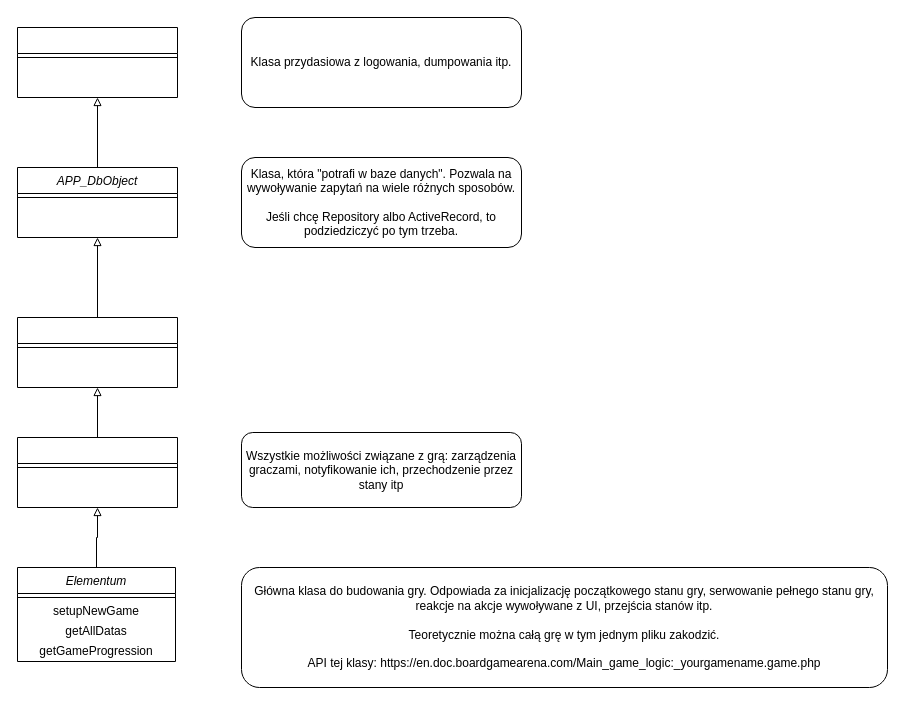
Image size: 905x705. Some labels were removed from this diagram. The centre of each missing label's shape, as x and y in pixels:
APP_GameClass: [97,352]
APP_Object: [97,62]
Table: [97,472]
